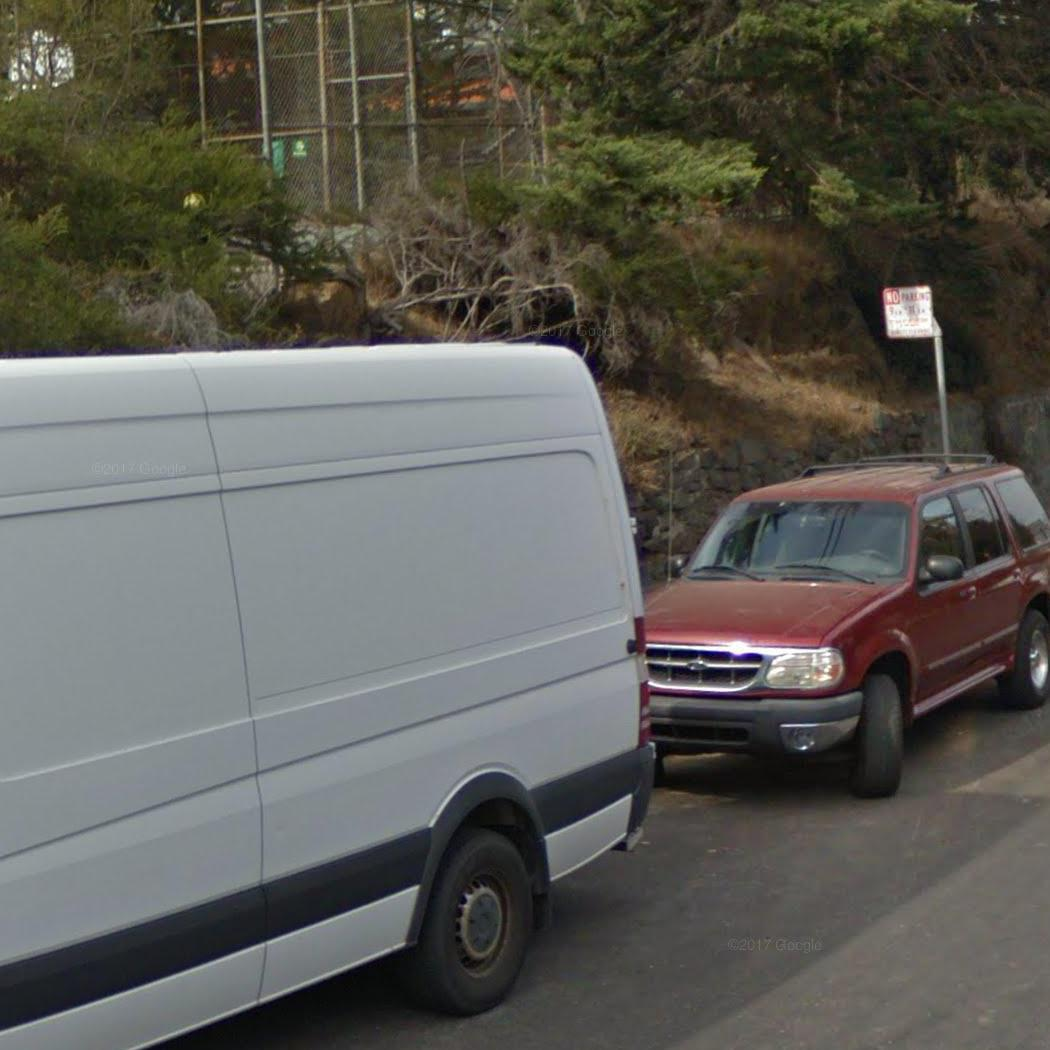No Parking: (880, 285, 938, 340)
